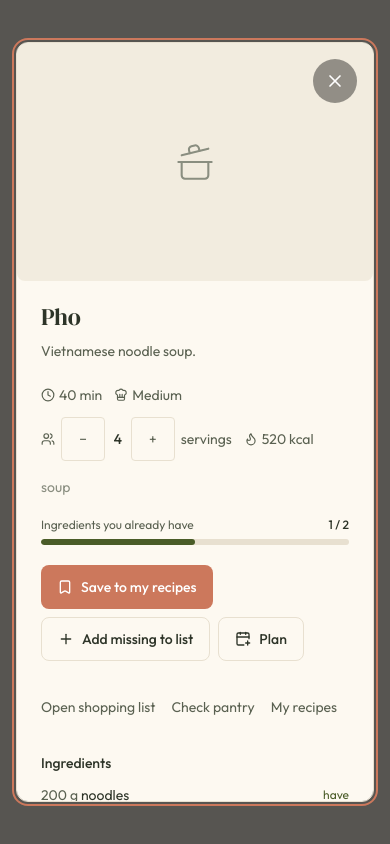
Test case: RecipeDetail › scales ingredient amounts with the servings stepper
expect the text "200 g" is shown: met, box [41,786,78,802]
Step 1. Click the button named "more servings" → (153, 438), box [131,416,175,460]
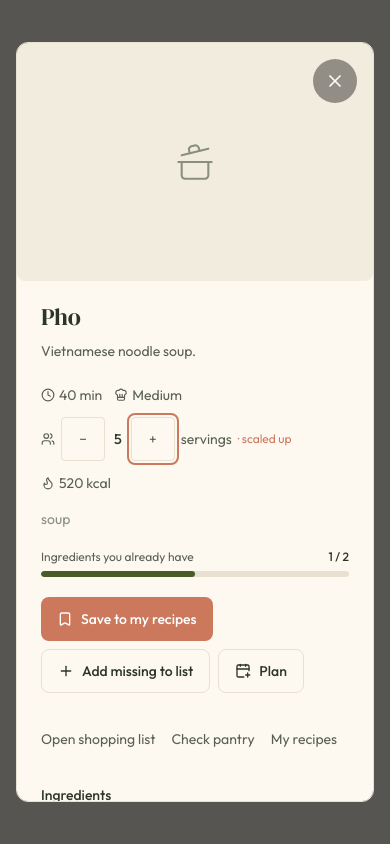
Note: back down to 3 servings → 0.75 → 150 / 225
Step 2. Click the button named "fewer servings" → (83, 438), box [61,416,105,460]
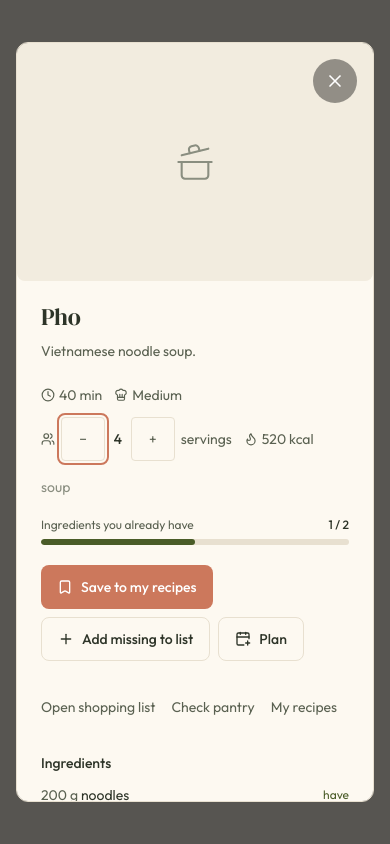
Step 3. Click the button named "fewer servings" → (83, 438), box [61,416,105,460]
(page scrolled)
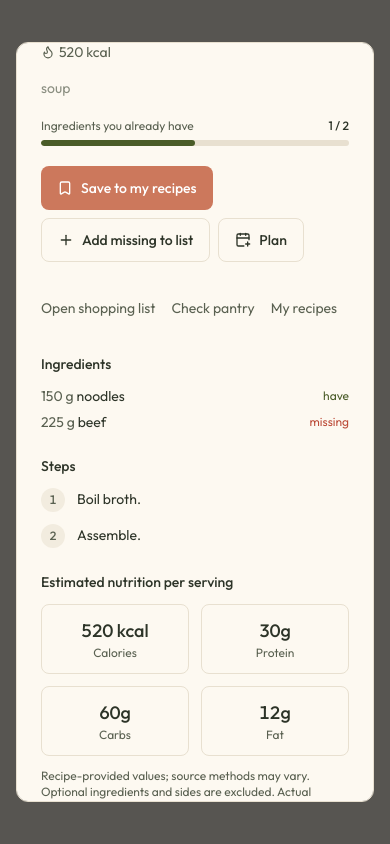
expect the text "150 g" is shown: met, box [41,386,74,404]
expect the text "225 g" is shown: met, box [41,412,75,430]
